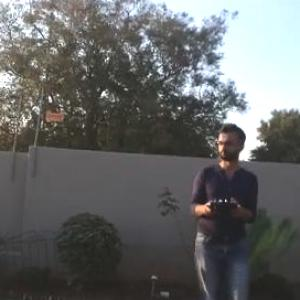follow: (186, 118, 262, 299)
